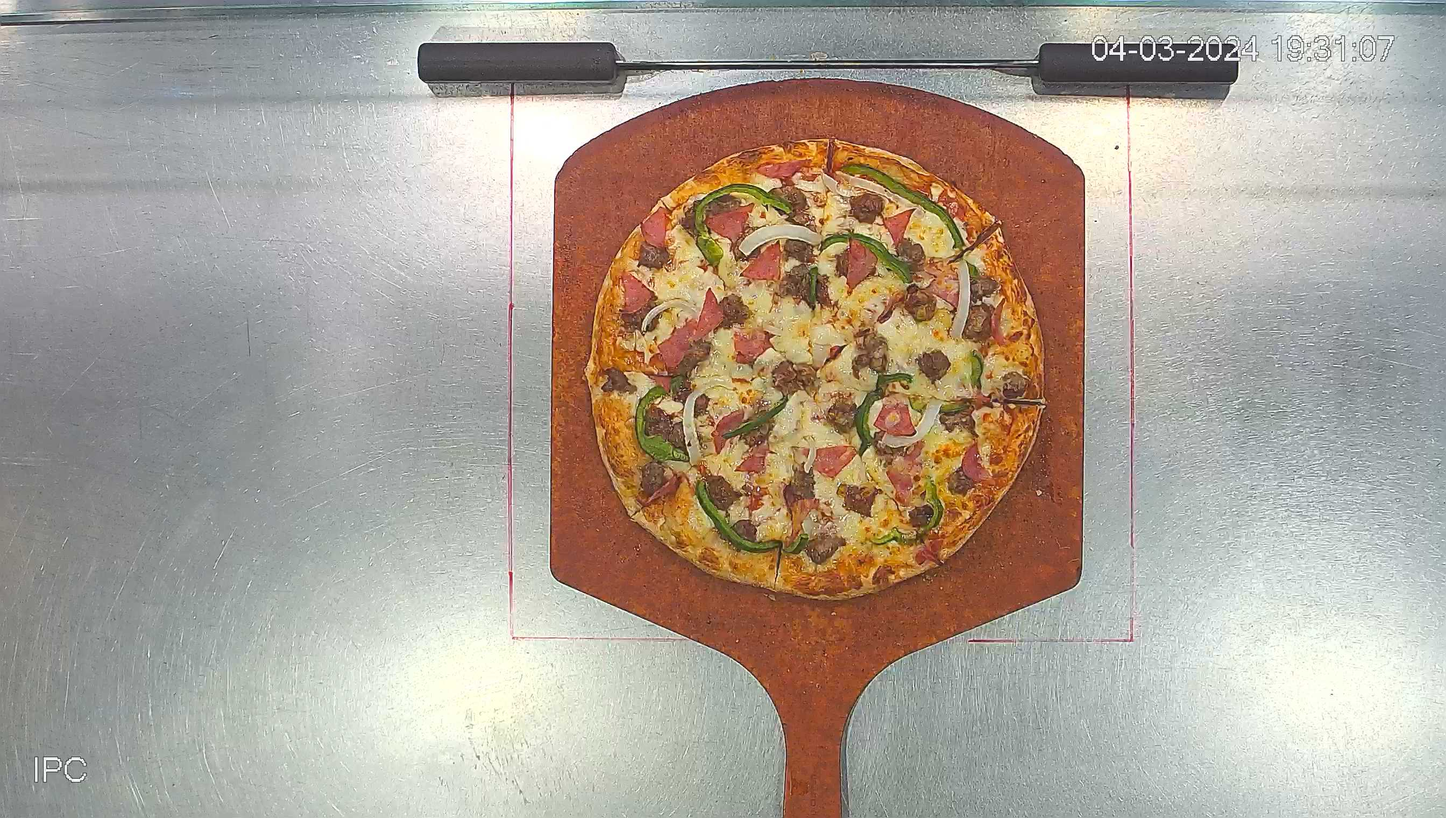hawaiian: (585, 138, 1045, 602)
